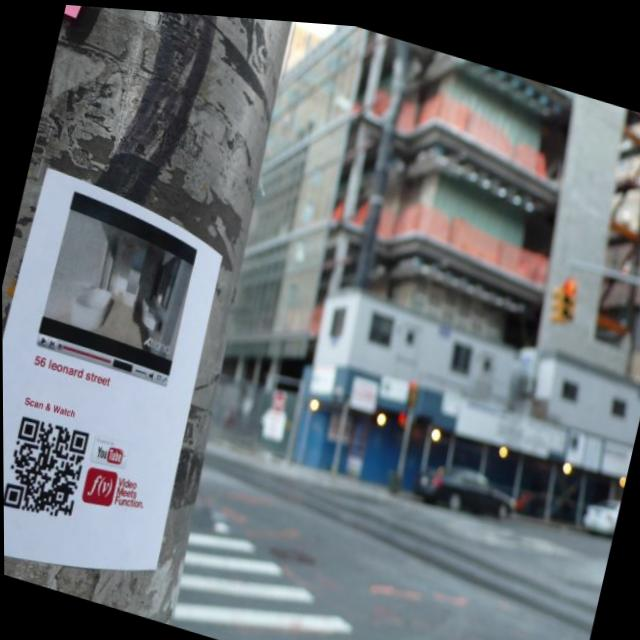qrcode: (3, 412, 90, 525)
